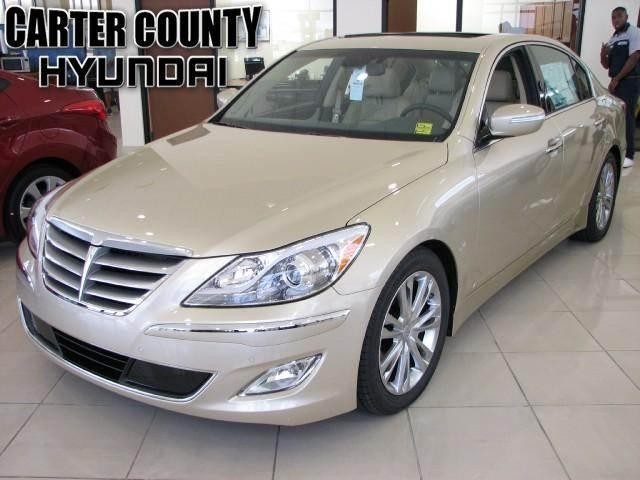car: (19, 26, 639, 445)
